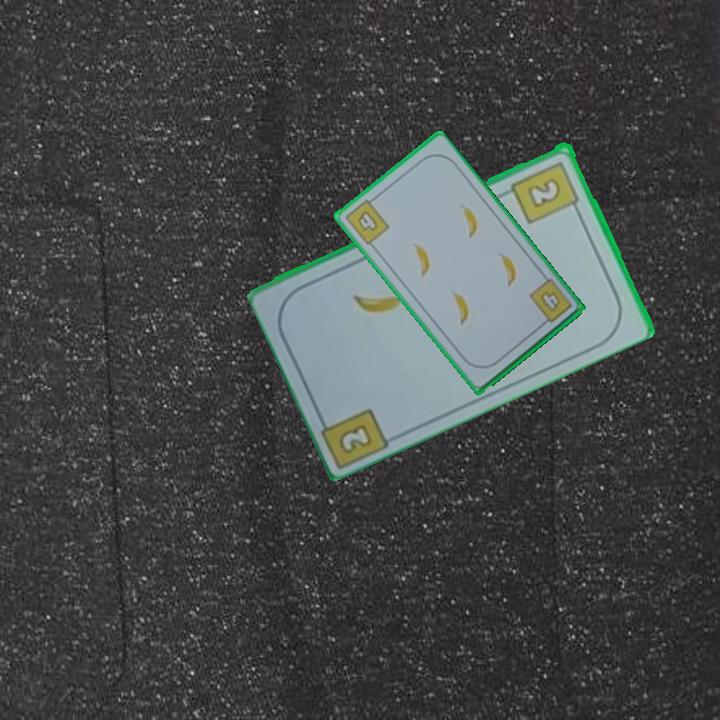2b: (508, 157, 583, 227), (338, 419, 376, 453)
4b: (341, 193, 392, 248), (525, 277, 575, 330)
